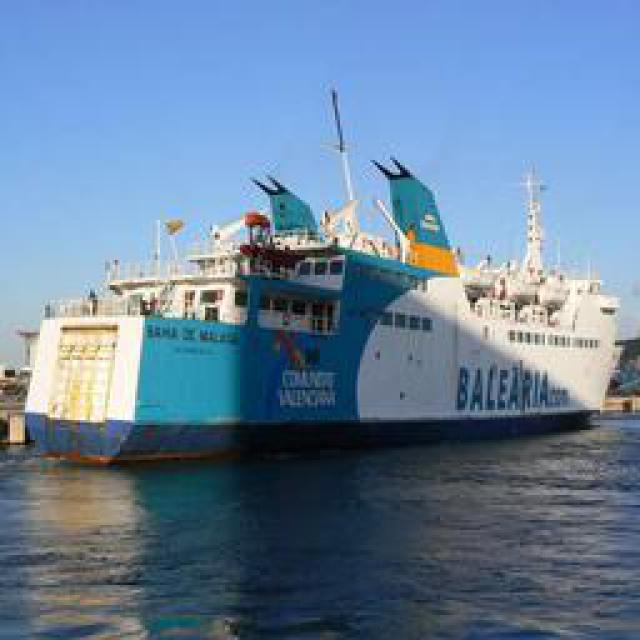Ship: (25, 162, 618, 465)
